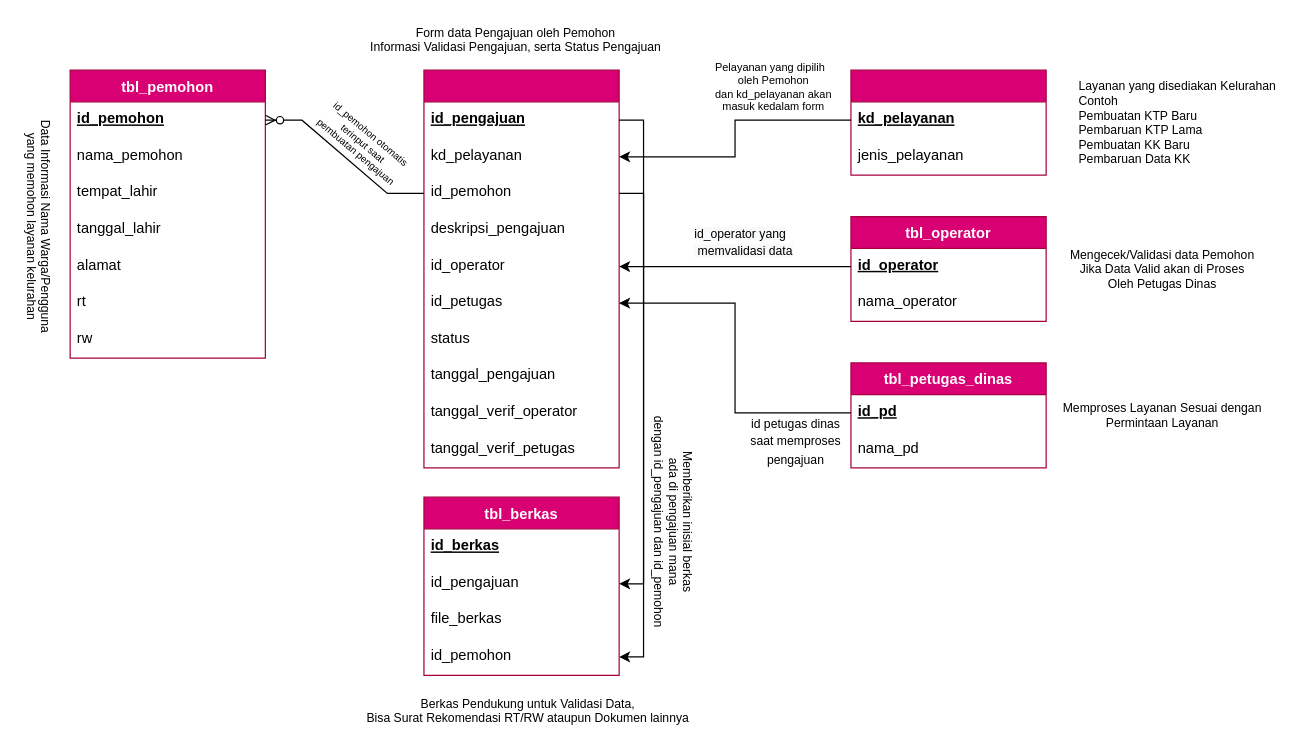
This 1304x749 diagram has some shape labels left out. The box of each missing label's shape, as (x1, y1, x2, y2) in pixels:
tbl_pelayanan: (850, 69, 1046, 175)
tbl_pengajuan: (423, 69, 619, 468)
